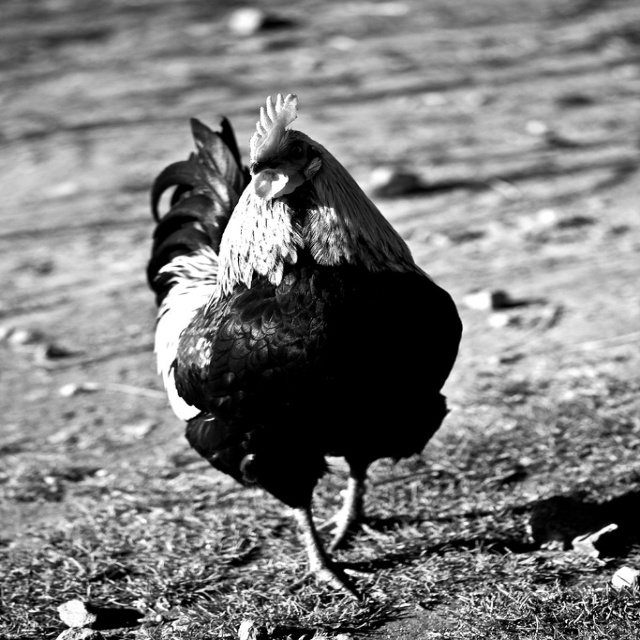Chicken: (151, 86, 456, 601)
